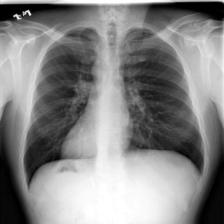normal: (18, 20, 210, 191)
